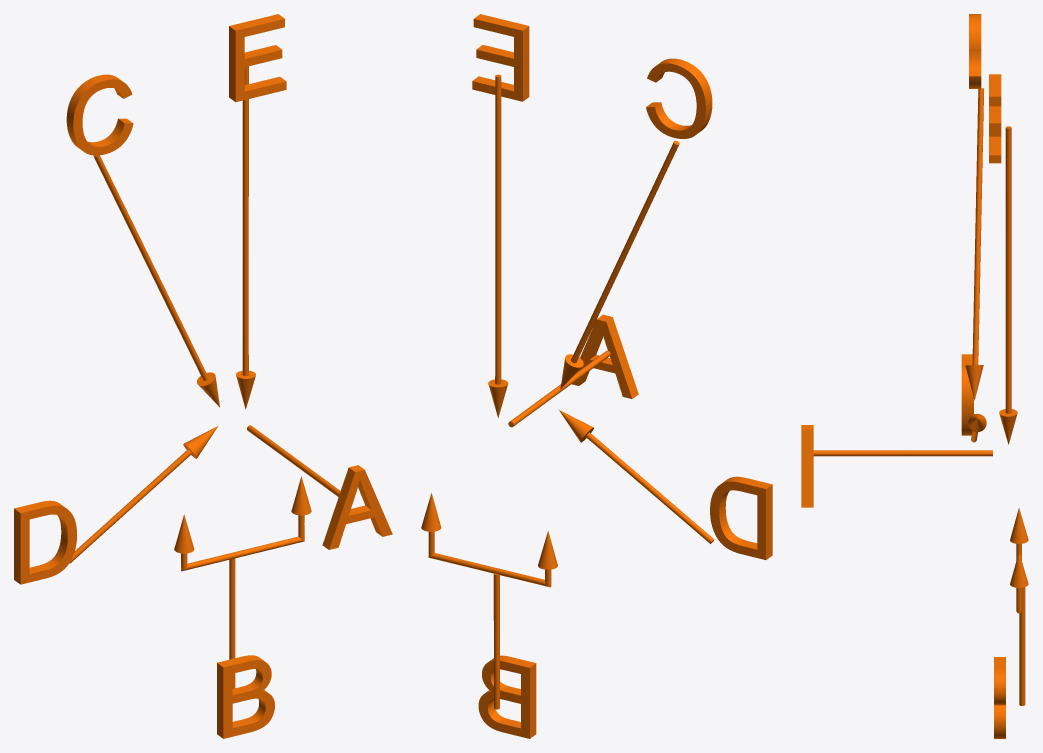
The model's file is s4arrow.glb.
3 views of the same model, side by side, from view 1: azimuth 30°, elevation 25°; view 2: azimuth 150°, elevation 25°; view 3: azimuth 270°, elevation 25° (orthographic). The views are drawn at different scales.
Parts seen in each view (by area): view 1: Node; view 2: Node; view 3: Node.
Boxes of the visible parts, x1,y1,x2,y2 form: Node: [14, 14, 392, 738]; Node: [421, 14, 772, 738]; Node: [801, 14, 1028, 738].
Size of the model in its own units: 7.04 by 14.85 by 4.68.
